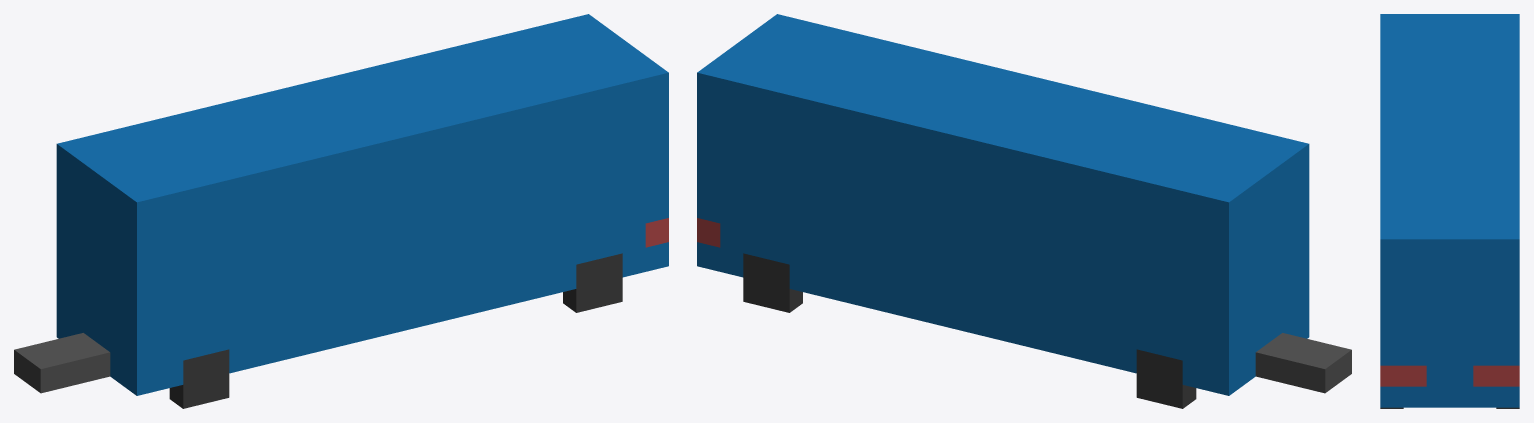
The model's file is truck-trailer-v1-blue.gltf.
The picture shows the model from 3 angles, left to right: view 1: azimuth 30°, elevation 25°; view 2: azimuth 150°, elevation 25°; view 3: azimuth 270°, elevation 25°; orthographic projection. The views are drawn at different scales.
Visible parts, largest first — view 1: model, wheels; view 2: model, wheels; view 3: model.
Part boxes in pixels (box(x1,y1,x2,y2)): model: box(14, 14, 668, 395); wheels: box(169, 253, 622, 408); model: box(697, 14, 1351, 395); wheels: box(743, 253, 1196, 408); model: box(1380, 14, 1519, 407).
Bounding box in the file's own units: 2.6 × 0.9 × 0.6.
2 materials, 2 textured.
